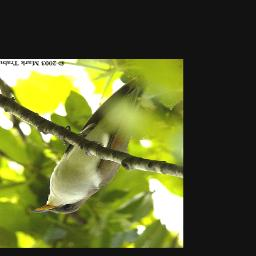Cuckoo: (30, 73, 151, 215)
